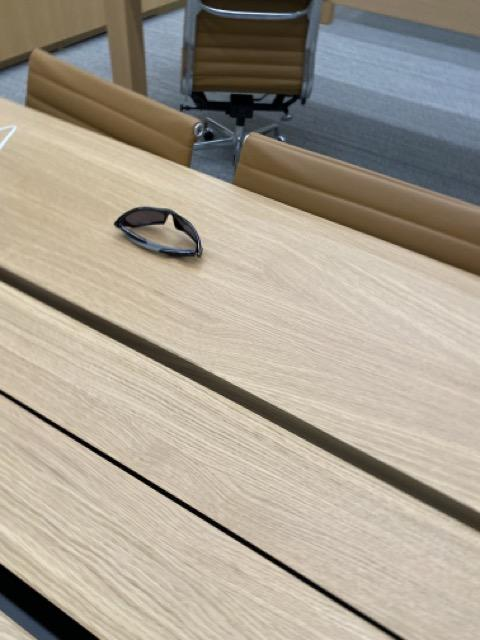Sunglasses: (114, 206, 205, 262)
